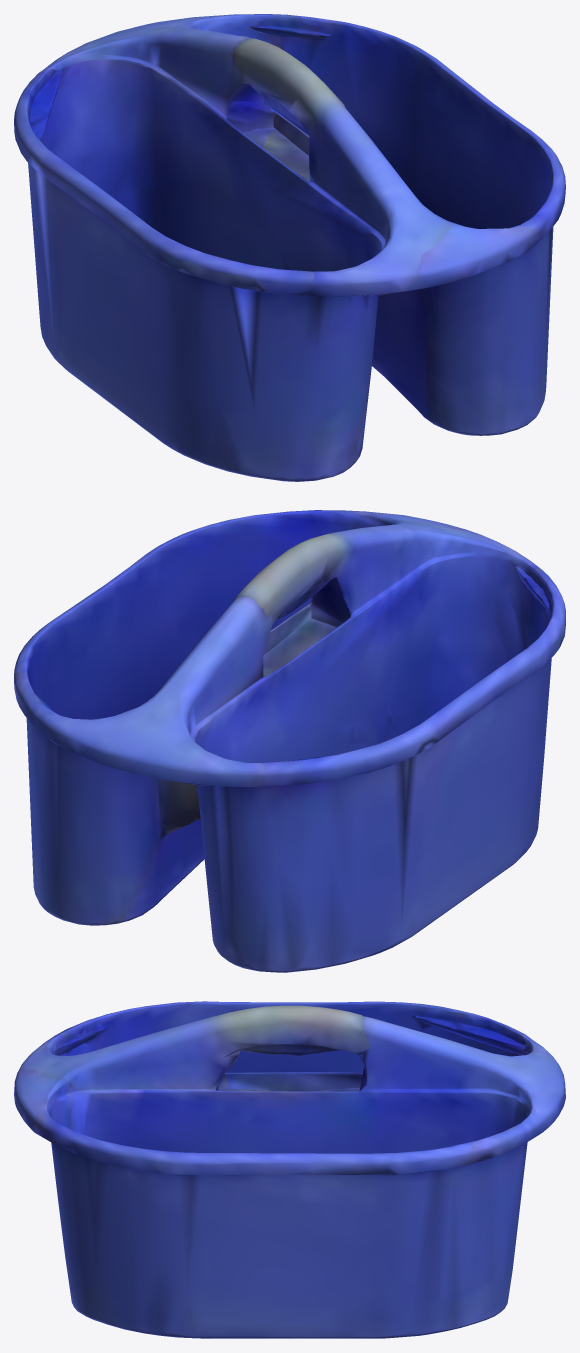
Rendered from Sterilite_Caddy_Blue_Sky_17_58_x_12_58_x_9_14-high.glb.
The picture shows the model from 3 angles, top to bottom: view 1: azimuth 30°, elevation 25°; view 2: azimuth 150°, elevation 25°; view 3: azimuth 270°, elevation 25°; orthographic projection. The views are drawn at different scales.
Parts seen in each view (by area): view 1: Sterilite_Caddy_Blue_Sky_17_58_x_12_58_x_9_14; view 2: Sterilite_Caddy_Blue_Sky_17_58_x_12_58_x_9_14; view 3: Sterilite_Caddy_Blue_Sky_17_58_x_12_58_x_9_14.
Part boxes in pixels (x1,y1,x2,y2): Sterilite_Caddy_Blue_Sky_17_58_x_12_58_x_9_14: [14, 14, 565, 481]; Sterilite_Caddy_Blue_Sky_17_58_x_12_58_x_9_14: [14, 510, 565, 972]; Sterilite_Caddy_Blue_Sky_17_58_x_12_58_x_9_14: [14, 1001, 565, 1338].
Size of the model in its own units: 0.3157 by 0.2343 by 0.4464.
1 material, 1 textured.
